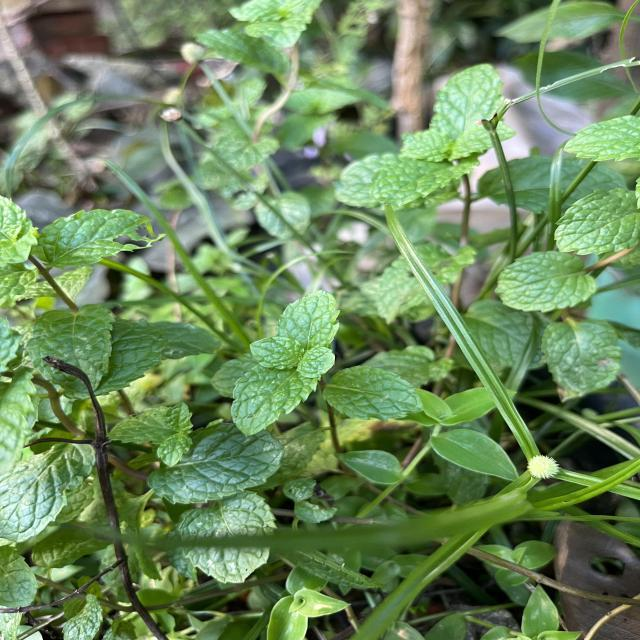Mentha spicata: (229, 366, 321, 438), (494, 252, 598, 314), (319, 364, 425, 424), (274, 288, 342, 348), (248, 336, 302, 370), (297, 346, 337, 378)
